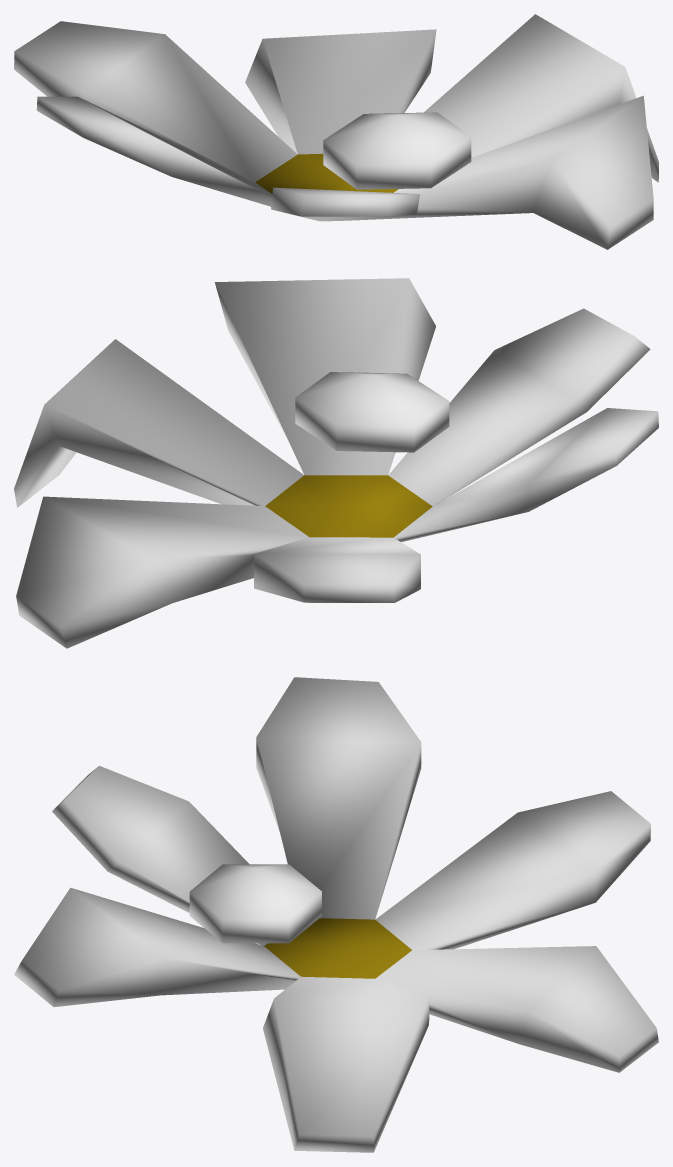
Rendered from Fiore 09.DAE.
3 views of the same model, one above another, from view 1: azimuth 30°, elevation 25°; view 2: azimuth 150°, elevation 25°; view 3: azimuth 270°, elevation 25° (orthographic). The views are drawn at different scales.
Parts seen in each view (by area): view 1: mesh01, Sphere0014; view 2: mesh01, Sphere0014; view 3: mesh01, Sphere0014.
Boxes of the visible parts, x1,y1,x2,y2 form: mesh01: (14, 14, 658, 249); Sphere0014: (323, 112, 471, 189); mesh01: (14, 278, 658, 648); Sphere0014: (295, 372, 449, 452); mesh01: (14, 677, 658, 1152); Sphere0014: (189, 864, 321, 943).
Bounding box in the file's own units: 3.76 × 1.26 × 3.68.
